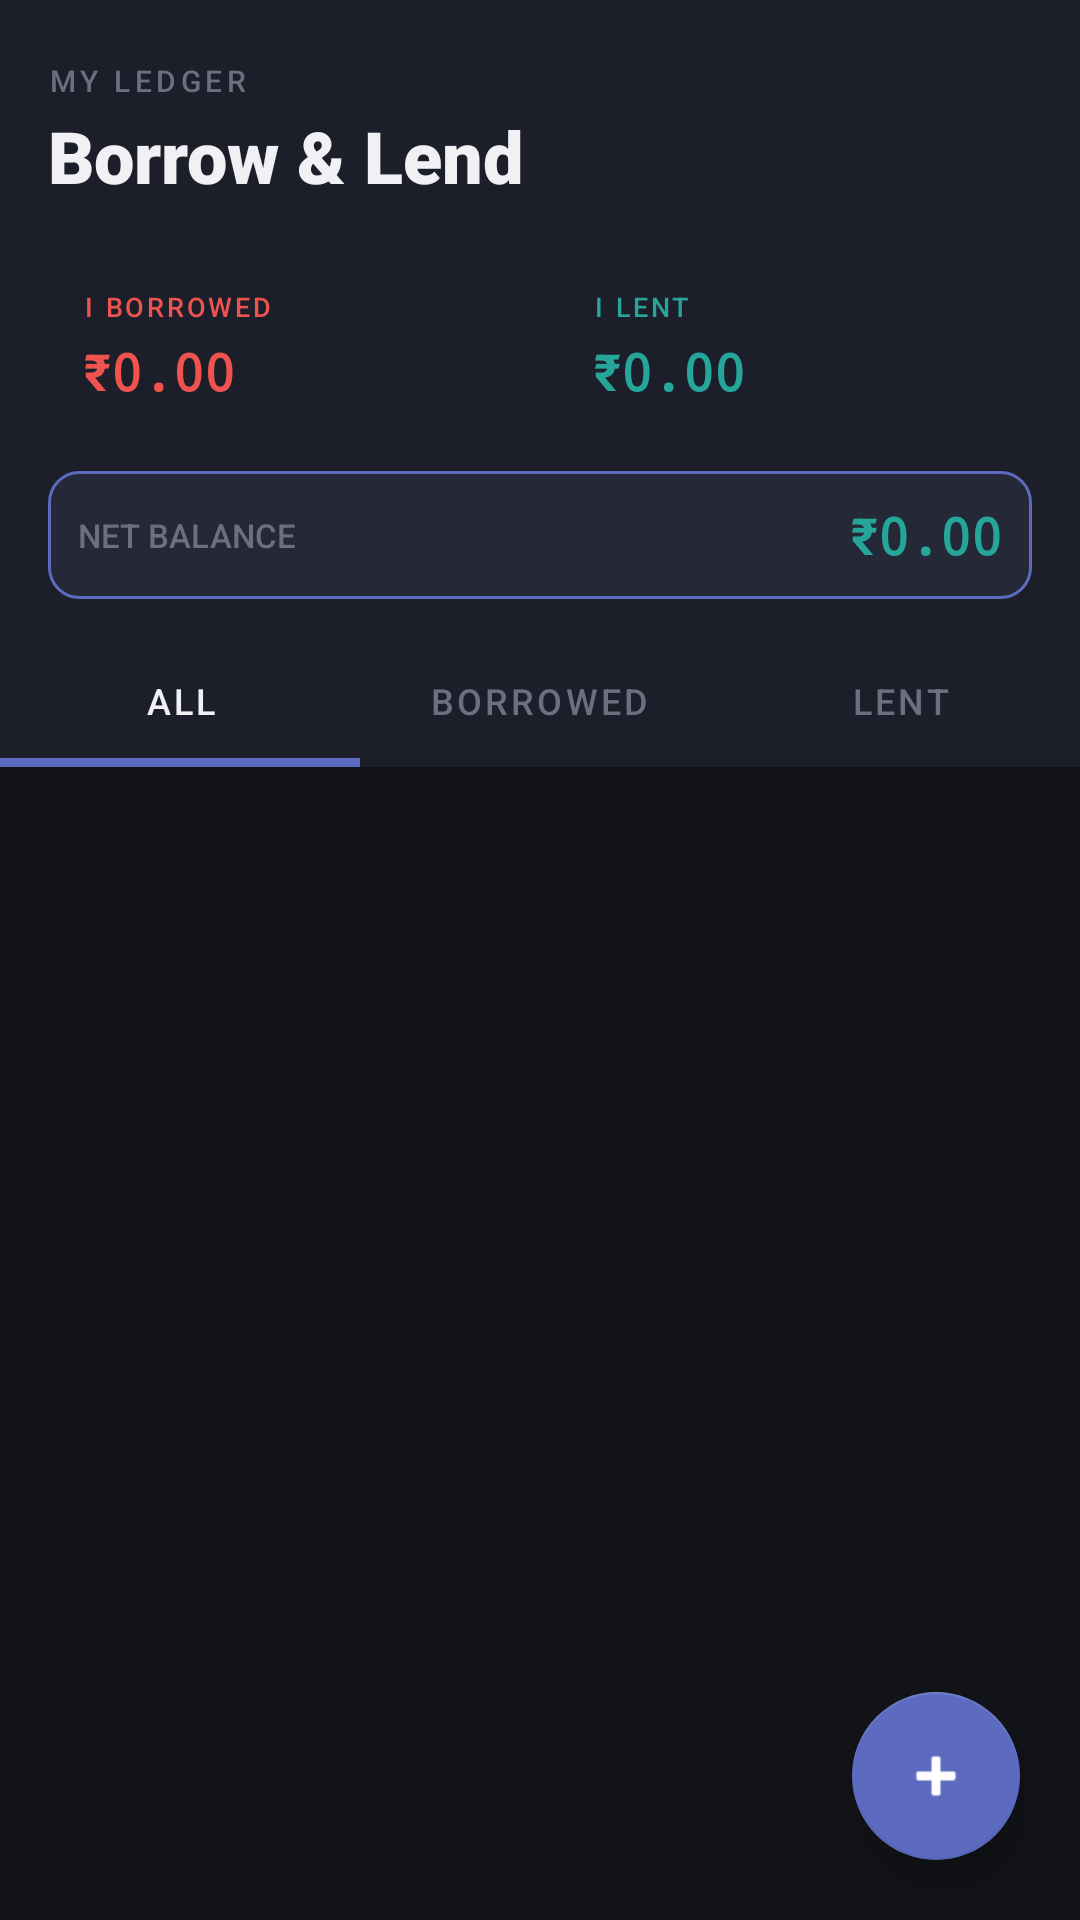

Icon bounding boxes for this 1080 x 1920 phone screenshot, format (x1, y1, x2, y2):
Add Transaction: (852, 1692, 1020, 1860)
